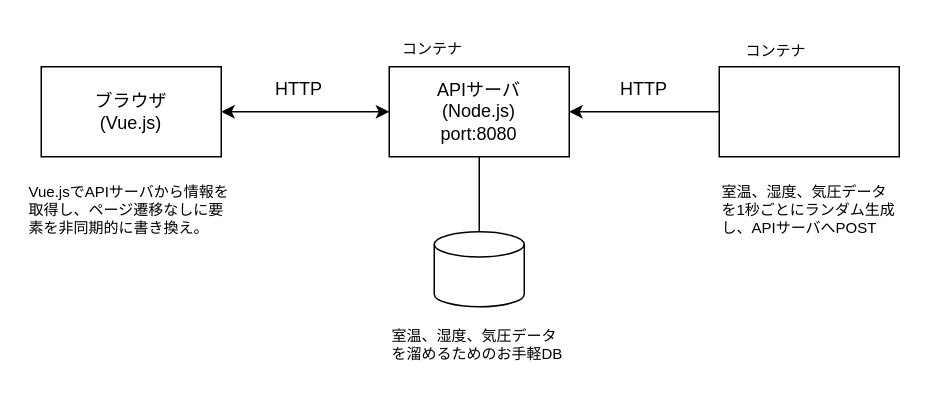
The diagram is 926 pixels wide and 407 high, and some of its shapes have lost their labels. Each missing label, with the centre of its shape:
"sqlite3" goes at [478,268].
"疑似センサー (python)" goes at [808,111].
